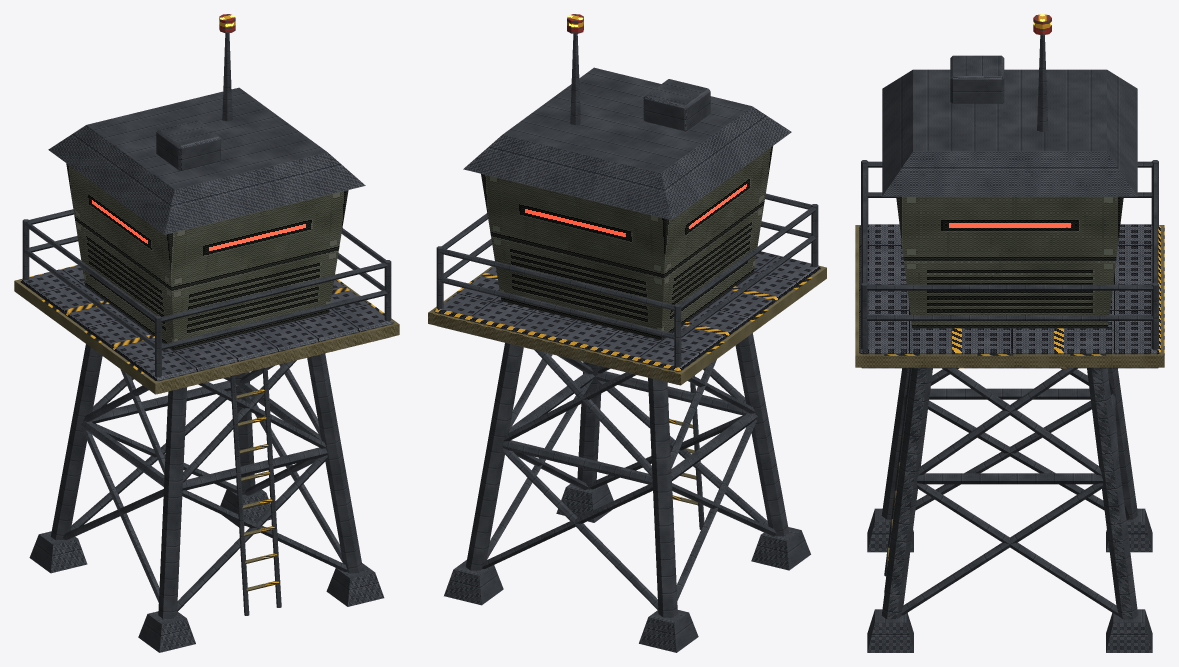
File: watchtower.glb
3 renders of one model, left to right at view 1: azimuth 30°, elevation 25°; view 2: azimuth 150°, elevation 25°; view 3: azimuth 270°, elevation 25°, orthographic. The views are drawn at different scales.
Parts seen in each view (by area): view 1: watchtower__mil_dark_steel, watchtower__mil_bunker_armor, watchtower__mil_metal_deck, watchtower__mil_hazard_trim; view 2: watchtower__mil_dark_steel, watchtower__mil_bunker_armor, watchtower__mil_metal_deck, watchtower__mil_hazard_trim; view 3: watchtower__mil_dark_steel, watchtower__mil_bunker_armor, watchtower__mil_metal_deck, watchtower__mil_hazard_trim.
Boxes of the visible parts, x1=… form: watchtower__mil_dark_steel: x1=22, y1=33, x2=391, y2=652; watchtower__mil_bunker_armor: x1=66, y1=163, x2=348, y2=350; watchtower__mil_metal_deck: x1=20, y1=265, x2=393, y2=394; watchtower__mil_hazard_trim: x1=14, y1=279, x2=399, y2=591; watchtower__mil_dark_steel: x1=436, y1=33, x2=818, y2=652; watchtower__mil_bunker_armor: x1=481, y1=146, x2=772, y2=339; watchtower__mil_metal_deck: x1=434, y1=251, x2=820, y2=384; watchtower__mil_hazard_trim: x1=428, y1=265, x2=826, y2=505; watchtower__mil_dark_steel: x1=861, y1=35, x2=1158, y2=652; watchtower__mil_bunker_armor: x1=896, y1=196, x2=1123, y2=328; watchtower__mil_metal_deck: x1=859, y1=224, x2=1160, y2=368; watchtower__mil_hazard_trim: x1=855, y1=225, x2=1164, y2=565.
Bounding box in the file's own units: 3.32 × 7.03 × 3.32.
5 materials, 5 textured.
